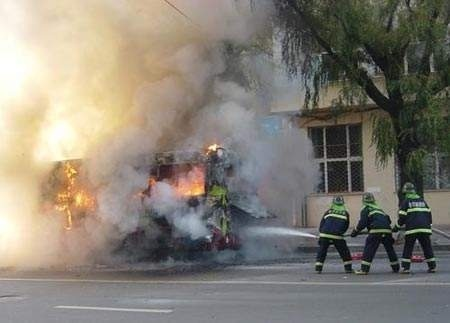fire: (129, 139, 222, 203)
